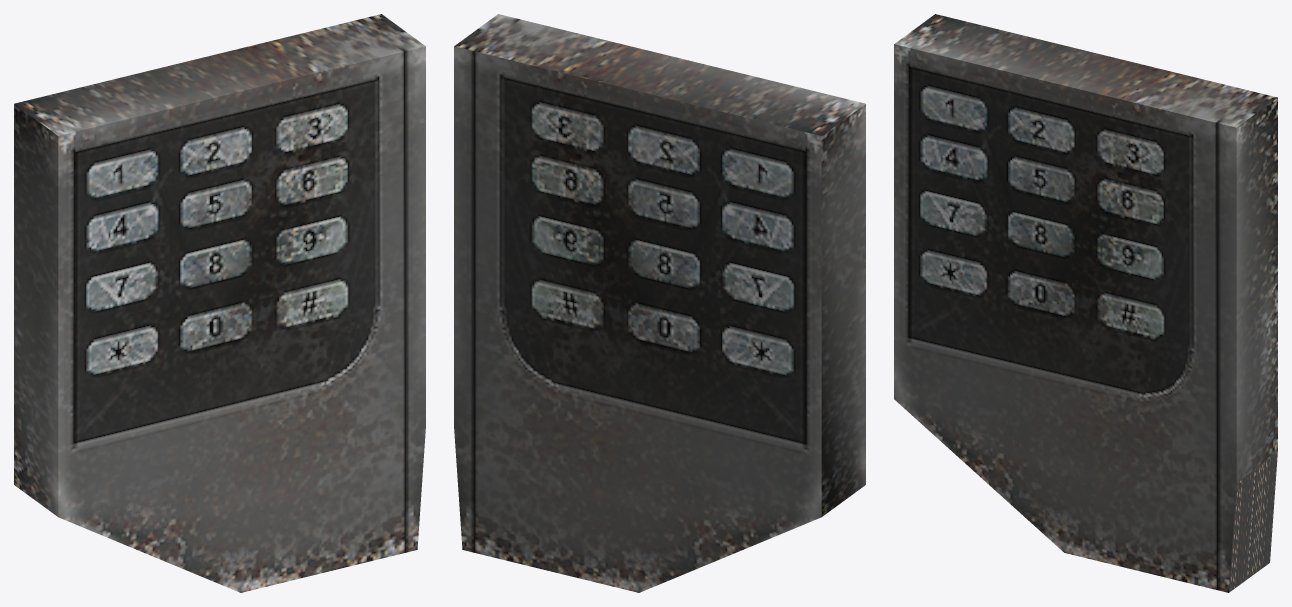
The model's file is panels_door_clickable.dae.
3 renders of one model, left to right at view 1: azimuth 30°, elevation 25°; view 2: azimuth 150°, elevation 25°; view 3: azimuth 330°, elevation 25°, orthographic. The views are drawn at different scales.
Parts seen in each view (by area): view 1: panel; view 2: panel; view 3: panel.
Part boxes in pixels (left/top/right/bottom): panel: left=14, top=14, right=425, bottom=592; panel: left=454, top=14, right=865, bottom=592; panel: left=894, top=14, right=1277, bottom=592.
Size of what is drawn, in the model's own units: 0.1394 by 0.1817 by 0.029.
